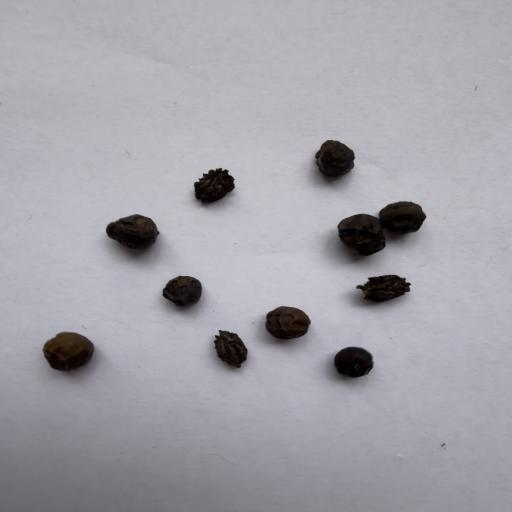Black_pepper: (327, 346, 405, 402), (376, 190, 447, 245), (260, 298, 342, 344), (89, 210, 163, 258), (299, 136, 365, 188), (34, 326, 109, 371), (152, 271, 222, 316), (322, 206, 376, 255)
papaya_seed: (185, 158, 258, 208), (352, 268, 423, 307), (205, 330, 251, 375)
